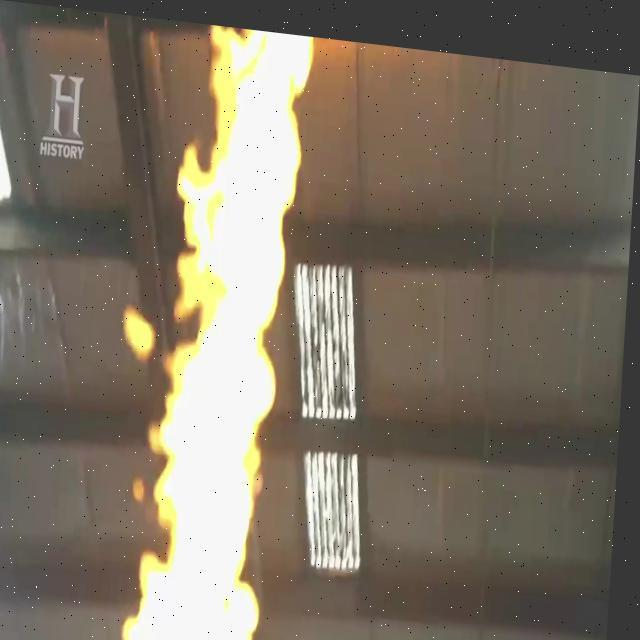Fire: (110, 17, 322, 639)
